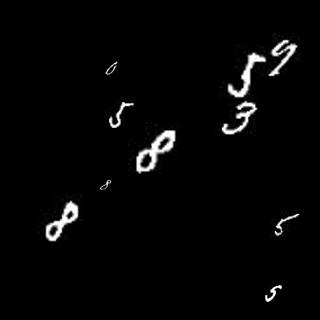eight: (134, 127, 180, 174), (42, 199, 77, 245), (98, 175, 112, 190)
five: (227, 51, 263, 97), (108, 97, 138, 129), (275, 210, 300, 238), (263, 282, 284, 303)
nine: (267, 38, 298, 74)
three: (219, 99, 257, 139)
zero: (103, 59, 121, 75)
